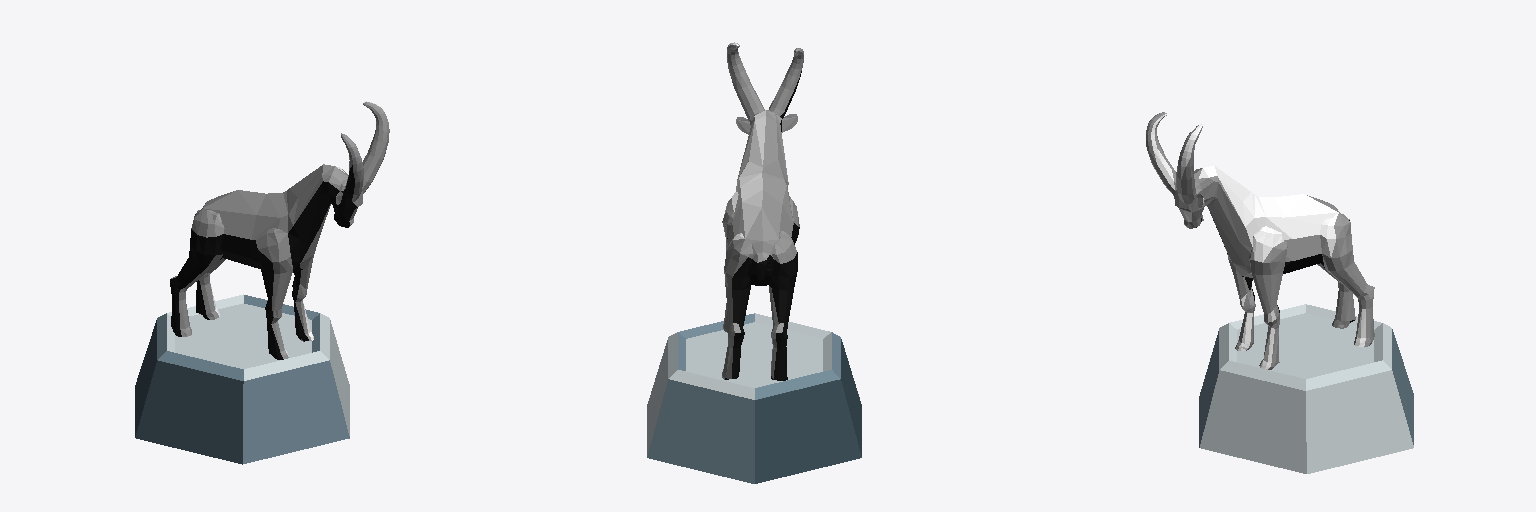
The picture shows the model from 3 angles: view 1: azimuth 30°, elevation 25°; view 2: azimuth 150°, elevation 25°; view 3: azimuth 270°, elevation 25°; orthographic projection.
Visible parts, largest first — view 1: group[number redacted], group[number redacted]; view 2: group[number redacted], group[number redacted]; view 3: group[number redacted], group[number redacted].
Boxes of the visible parts, box(x1,y1,x2,y2) form: group[number redacted]: box(135, 294, 349, 464); group[number redacted]: box(170, 101, 389, 359); group[number redacted]: box(647, 313, 861, 483); group[number redacted]: box(722, 42, 803, 380); group[number redacted]: box(1199, 304, 1413, 473); group[number redacted]: box(1146, 112, 1374, 369).
Size of the model in its own units: 2.03 by 3 by 2.2.